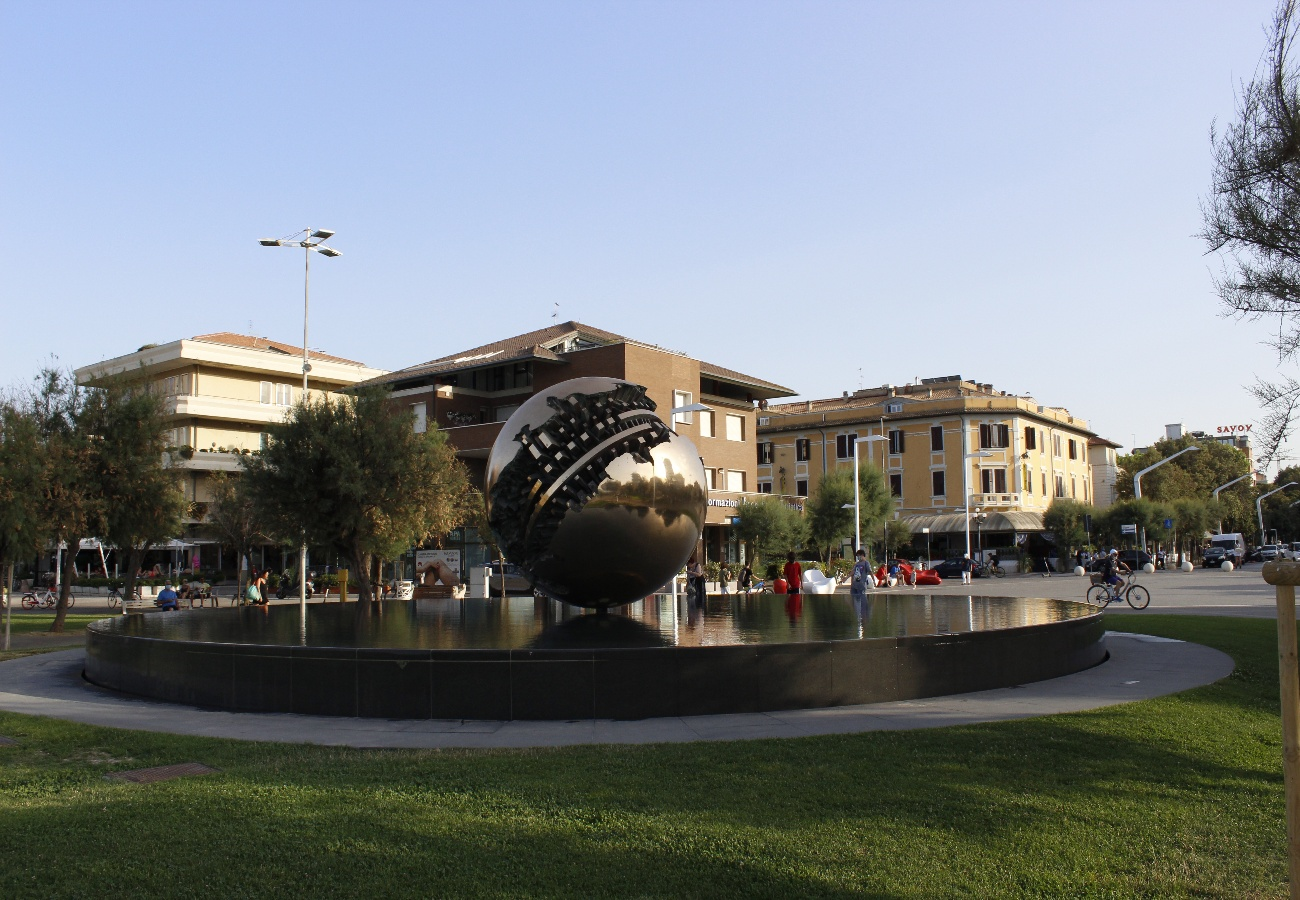Palla di Pomodoro: (485, 377, 711, 608)
